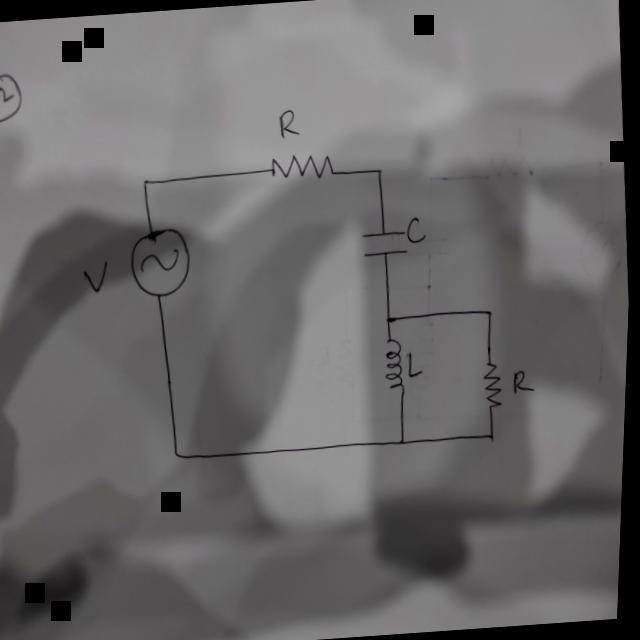capacitor: (360, 225, 409, 260)
inductor: (383, 336, 411, 392)
junction: (139, 172, 155, 194), (396, 432, 412, 451), (173, 445, 185, 462), (374, 164, 386, 177), (386, 314, 399, 324), (489, 430, 498, 444), (486, 306, 496, 318)
resistor: (266, 146, 339, 183), (483, 358, 508, 410)
source: (124, 224, 195, 300)
text: (83, 258, 112, 294), (512, 366, 541, 396), (277, 106, 302, 139), (406, 213, 429, 244), (408, 348, 427, 378)
